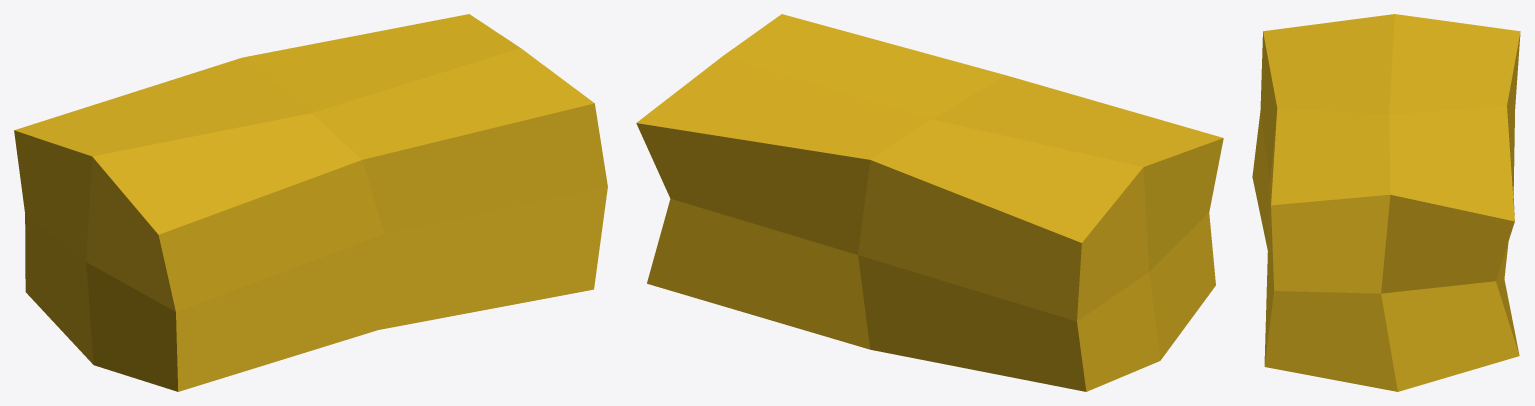
File: hay_stack.fbx
3 renders of one model, left to right at view 1: azimuth 30°, elevation 25°; view 2: azimuth 150°, elevation 25°; view 3: azimuth 270°, elevation 25°, orthographic. The views are drawn at different scales.
Visible parts, largest first — view 1: HayStack; view 2: HayStack; view 3: HayStack.
Part boxes in pixels (x1,y1,x2,y2): HayStack: [14, 14, 607, 391]; HayStack: [636, 14, 1223, 391]; HayStack: [1252, 14, 1520, 391].
Bounding box in the file's own units: 391 × 167 × 219.
